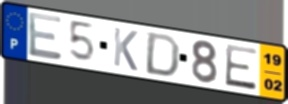5: (66, 19, 96, 65)
8: (189, 39, 220, 85)
D: (143, 31, 183, 79)
E: (26, 10, 64, 62), (223, 43, 259, 93)
K: (112, 26, 140, 74)
